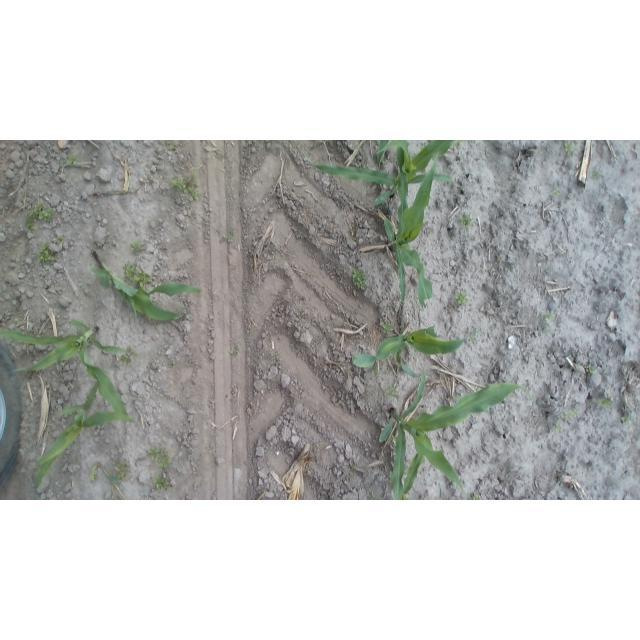Maize: (377, 367, 524, 499), (0, 315, 132, 424), (33, 382, 135, 496), (311, 140, 463, 205), (381, 151, 440, 310), (87, 255, 205, 321), (351, 325, 469, 379), (91, 152, 142, 200), (90, 459, 131, 500), (375, 141, 397, 168), (437, 483, 443, 500)
Weeds: (171, 170, 201, 202), (24, 204, 56, 231), (124, 264, 153, 291), (147, 444, 175, 471), (351, 268, 369, 293), (36, 244, 57, 265), (114, 461, 130, 482), (539, 310, 554, 331), (457, 212, 474, 230), (598, 393, 615, 411), (153, 475, 172, 491), (128, 240, 146, 255), (122, 347, 137, 365), (386, 383, 400, 402), (378, 319, 394, 335), (454, 290, 469, 307), (564, 140, 579, 157), (223, 228, 237, 245), (65, 153, 81, 167), (271, 352, 282, 368), (347, 464, 359, 478), (584, 364, 596, 377), (54, 235, 68, 246), (592, 167, 603, 181), (620, 413, 632, 425), (267, 242, 278, 255), (468, 329, 478, 343), (165, 140, 176, 152), (553, 423, 564, 435), (552, 188, 563, 199), (229, 345, 239, 357), (469, 492, 483, 500), (165, 361, 176, 371), (561, 411, 571, 422), (371, 367, 380, 377), (571, 406, 579, 416), (368, 493, 377, 500), (14, 317, 21, 325)
